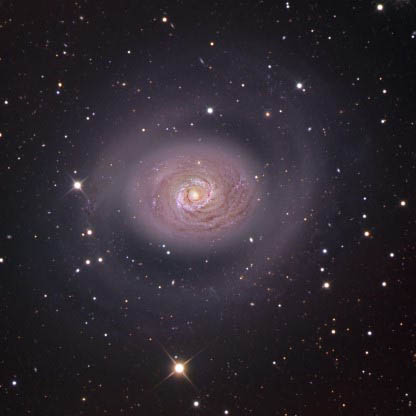Messier 94: (48, 43, 341, 342)
